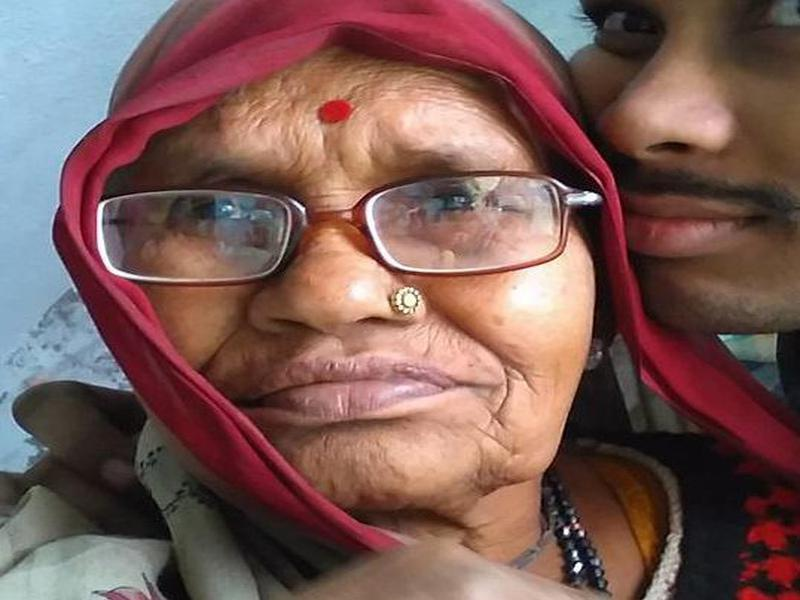without_mask: (93, 78, 595, 516)
